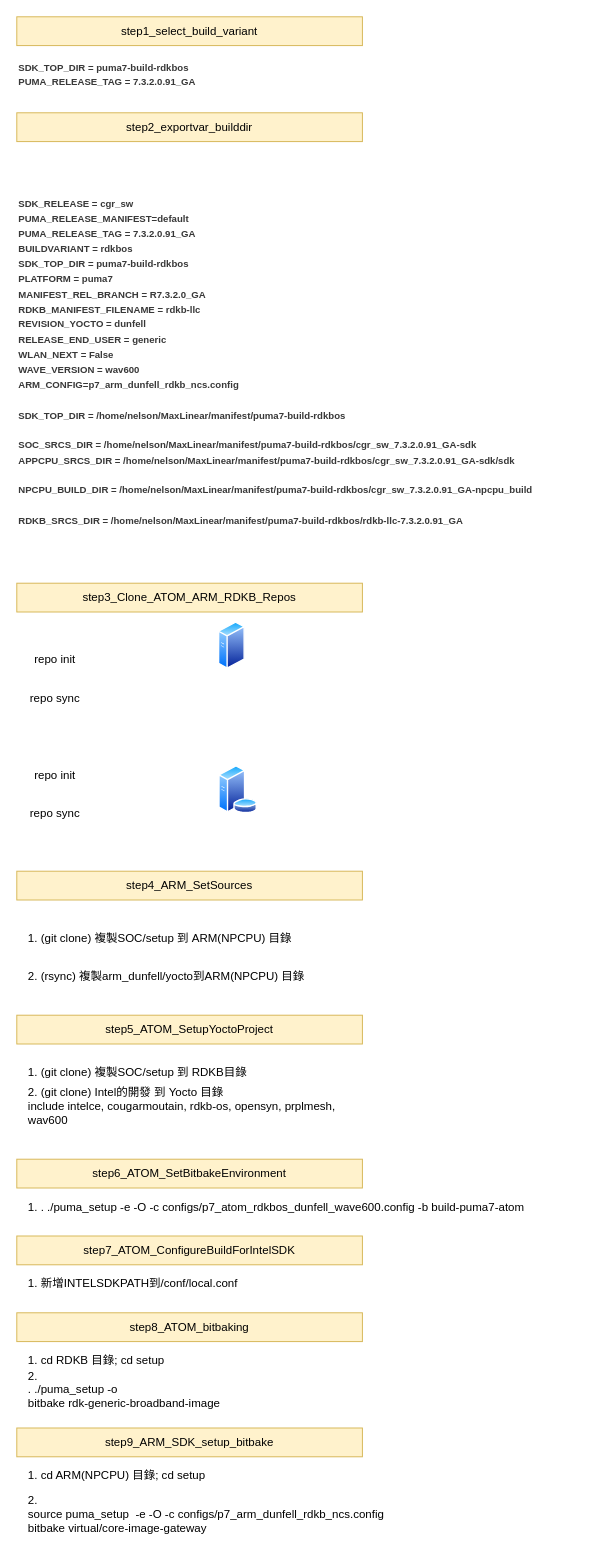
The diagram is 600 pixels wide and 1551 high, and some of its shapes have lost their labels. The box of each missing label's shape, as (x1, y1, x2, y2) in pixels:
code.rdkcentral.com: (218, 765, 257, 813)
designcentersw.maxlinear.com: (218, 621, 245, 669)
